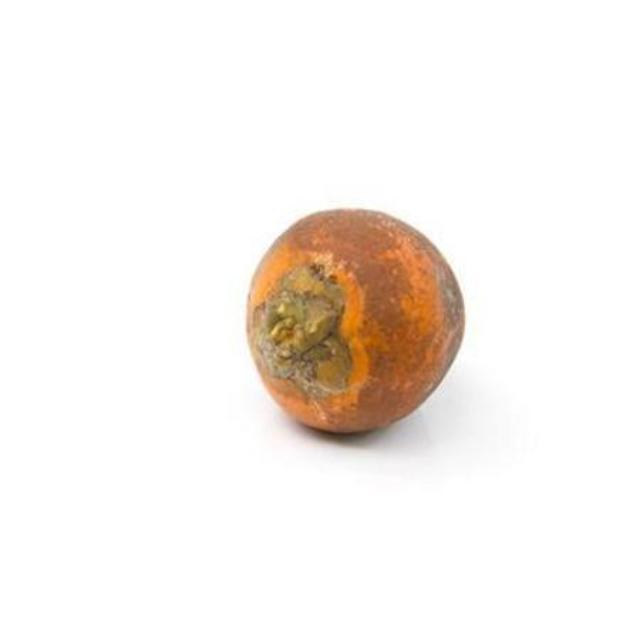good: (245, 208, 468, 437)
